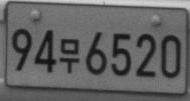0: (160, 33, 181, 78)
2: (135, 32, 157, 77)
4: (33, 28, 57, 72)
5: (110, 33, 132, 76)
6: (85, 31, 107, 75)
9: (10, 27, 33, 71)
무: (59, 37, 79, 74)
